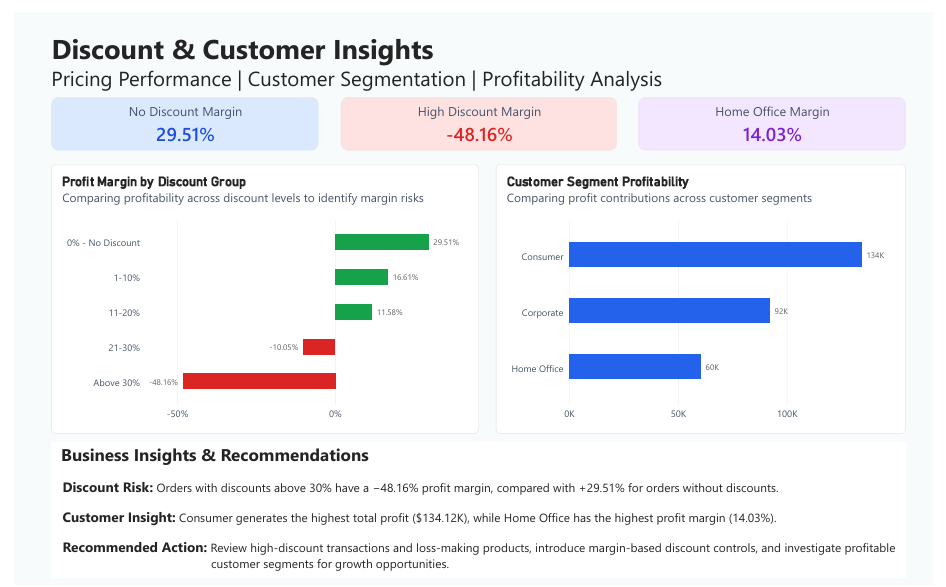

What the dashboard file says about the page in this screenshot:
{"tool":"powerbi","page":{"name":"Discount & Customer Insights","canvas":[1440,900],"ordinal":2},"visuals":[{"type":"textbox","box":[58.3,28.3,905,68.3],"z":0},{"type":"textbox","box":[58.3,80,1340,53.3],"z":1},{"type":"clusteredBarChart","title":"Profit Margin by Discount Group","fields":{"Category":["public superstore_raw.Discount Group"],"Y":["public superstore_raw.Profit Margin %"]},"box":[58.3,238.3,670,423.3],"z":2},{"type":"clusteredBarChart","title":"Customer Segment Profitability","fields":{"Category":["public superstore_raw.segment"],"Y":["public superstore_raw.Total Profit"]},"box":[755,238.3,643.3,423.3],"z":3},{"type":"cardVisual","fields":{"Data":["public superstore_raw.No Discount Margin"]},"box":[58.3,133.3,418.3,83.3],"z":4},{"type":"cardVisual","fields":{"Data":["public superstore_raw.High Discount Margin"]},"box":[511.7,133.3,433.3,83.3],"z":5},{"type":"cardVisual","fields":{"Data":["public superstore_raw.Home Office Margin"]},"box":[978.3,133.3,420,83.3],"z":6},{"type":"textbox","box":[58.3,675,1340,211.7],"z":7}]}

Visuals, with their boxes in screenshot pixels (x1, y1, x2, y2), scaled from the page's 1440x900 canvas onto the 946x587 screenshot:
textbox: bbox=[38, 18, 633, 63]
textbox: bbox=[38, 52, 919, 87]
"Profit Margin by Discount Group" clusteredBarChart: bbox=[38, 155, 478, 432]
"Customer Segment Profitability" clusteredBarChart: bbox=[496, 155, 919, 432]
cardVisual - public superstore_raw.No Discount Margin: bbox=[38, 87, 313, 141]
cardVisual - public superstore_raw.High Discount Margin: bbox=[336, 87, 621, 141]
cardVisual - public superstore_raw.Home Office Margin: bbox=[643, 87, 919, 141]
textbox: bbox=[38, 440, 919, 578]
